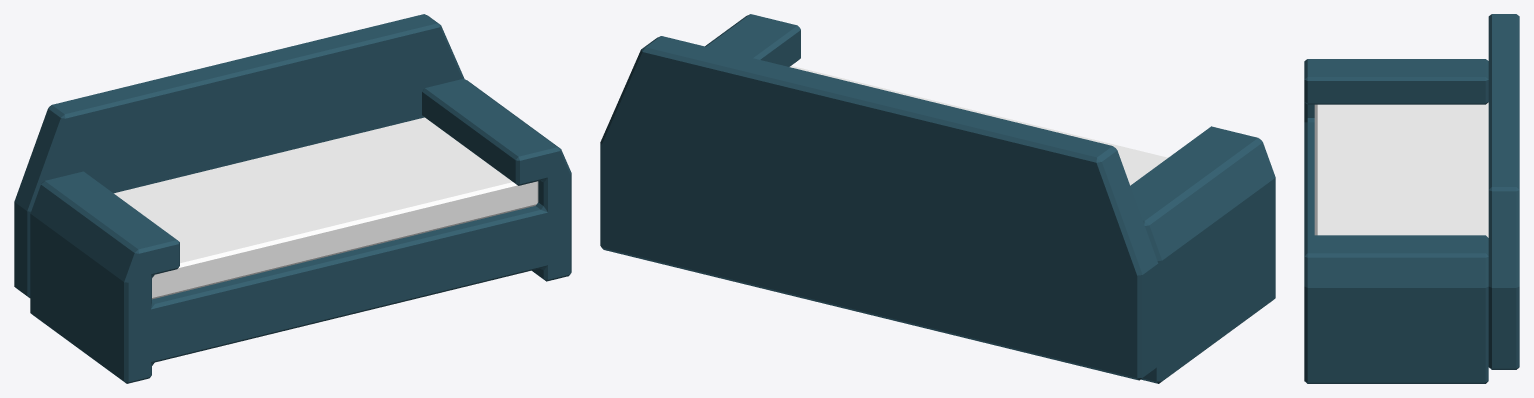
Rendered from Sofa 1 Big.glb.
3 views of the same model, side by side, from view 1: azimuth 30°, elevation 25°; view 2: azimuth 150°, elevation 25°; view 3: azimuth 270°, elevation 25° (orthographic). The views are drawn at different scales.
Parts seen in each view (by area): view 1: Sofa 1 Big; view 2: Sofa 1 Big; view 3: Sofa 1 Big.
Boxes of the visible parts, x1=… form: Sofa 1 Big: x1=14, y1=14, x2=571, y2=383; Sofa 1 Big: x1=600, y1=14, x2=1275, y2=383; Sofa 1 Big: x1=1304, y1=14, x2=1519, y2=383.
Size of what is drawn, in the model's own units: 2.44 by 0.9906 by 1.07.
Materials: 1 (1 with a texture image).
